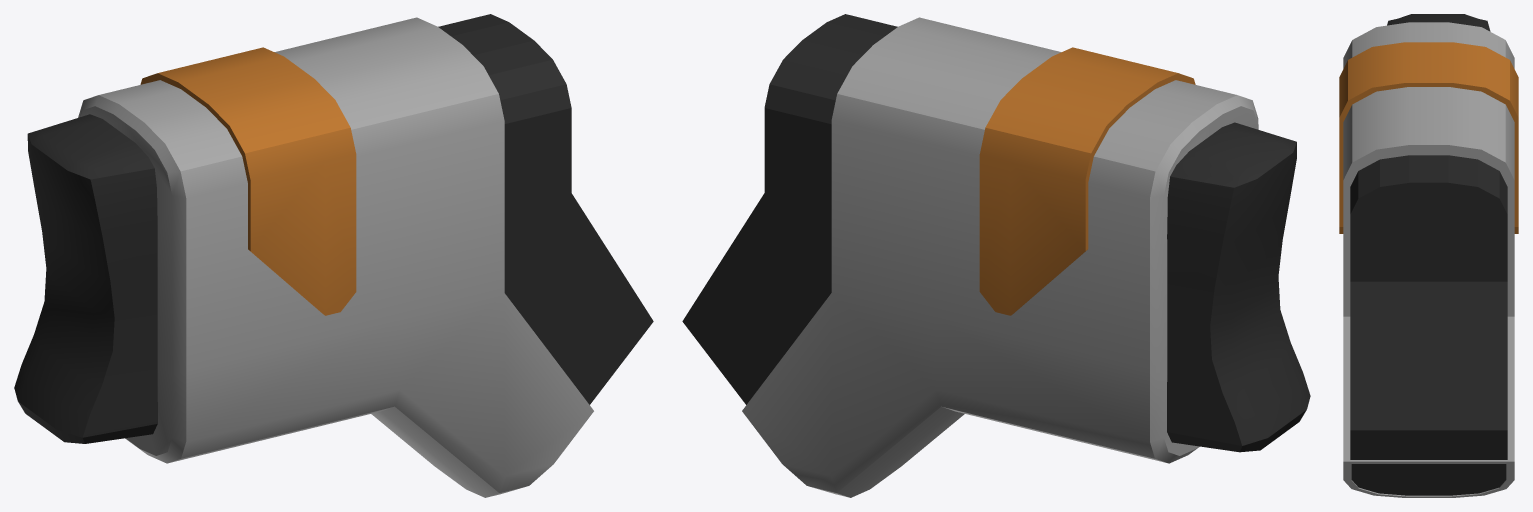
The model's file is Stock_Pistol_3.glb.
The picture shows the model from 3 angles, left to right: view 1: azimuth 30°, elevation 25°; view 2: azimuth 150°, elevation 25°; view 3: azimuth 270°, elevation 25°; orthographic projection. The views are drawn at different scales.
Visible parts, largest first — view 1: Stock_Pistol_3; view 2: Stock_Pistol_3; view 3: Stock_Pistol_3.
Part boxes in pixels (<box>): Stock_Pistol_3: <box>14,14,653,497</box>; Stock_Pistol_3: <box>682,14,1310,497</box>; Stock_Pistol_3: <box>1339,14,1518,497</box>.
Bounding box in the file's own units: 0.3248 × 0.2473 × 0.114.
